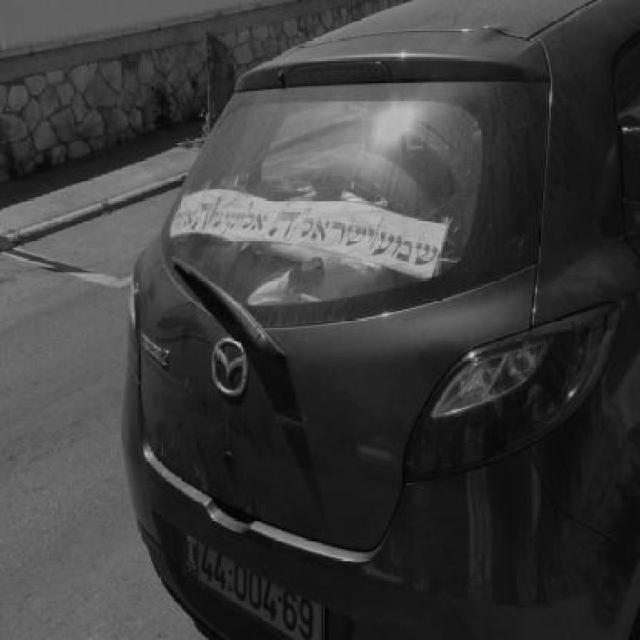car: (118, 4, 639, 640)
license-plate: (189, 537, 329, 640)
